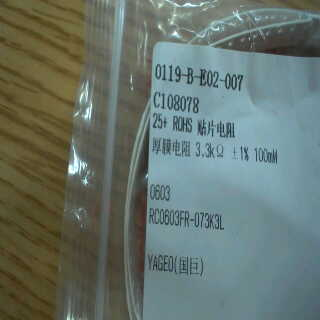3.3kO: (190, 141, 226, 161)
